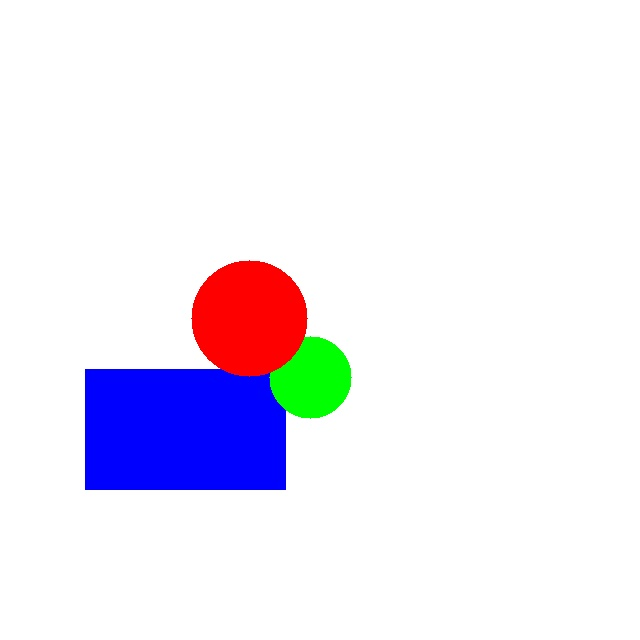cartao: (85, 369, 285, 489)
rosca_externa: (269, 336, 351, 418)
rosca_interna: (191, 260, 307, 376)
